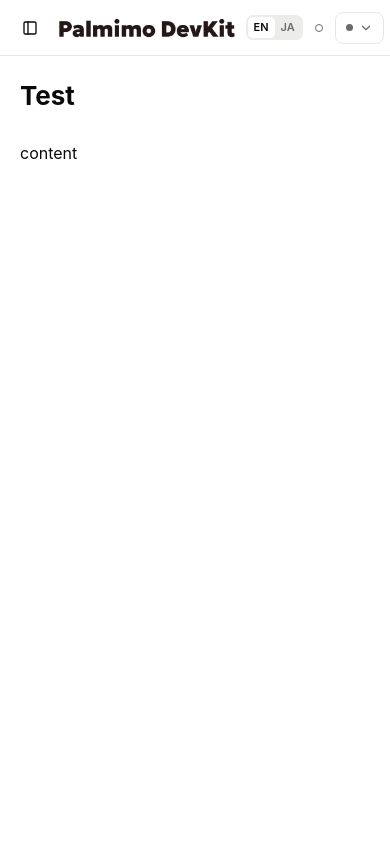
Test: AppShell mobile drawer › opens from the header toggle and lists every NAV_ITEMS entry
The width and height of the screenshot is (390, 844).
Click the button named "Toggle sidebar" at (30, 28), box [12,10,48,46]
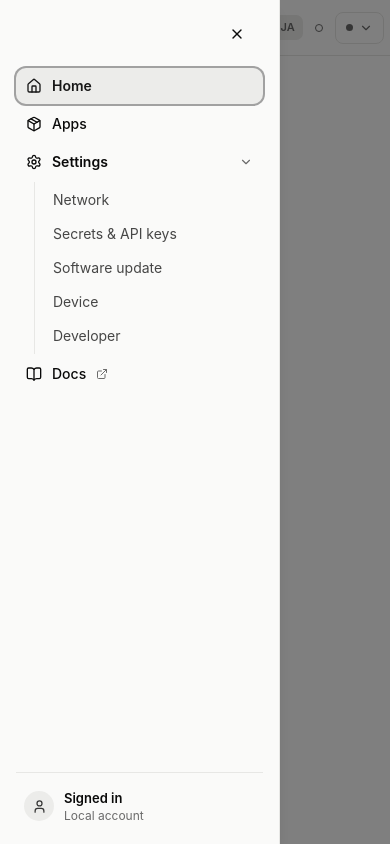
Result: the text "Home" is shown at [52,76,92,96]
Result: the text "Apps" is shown at [52,114,87,134]
Result: the text "Settings" is shown at [52,153,108,170]
